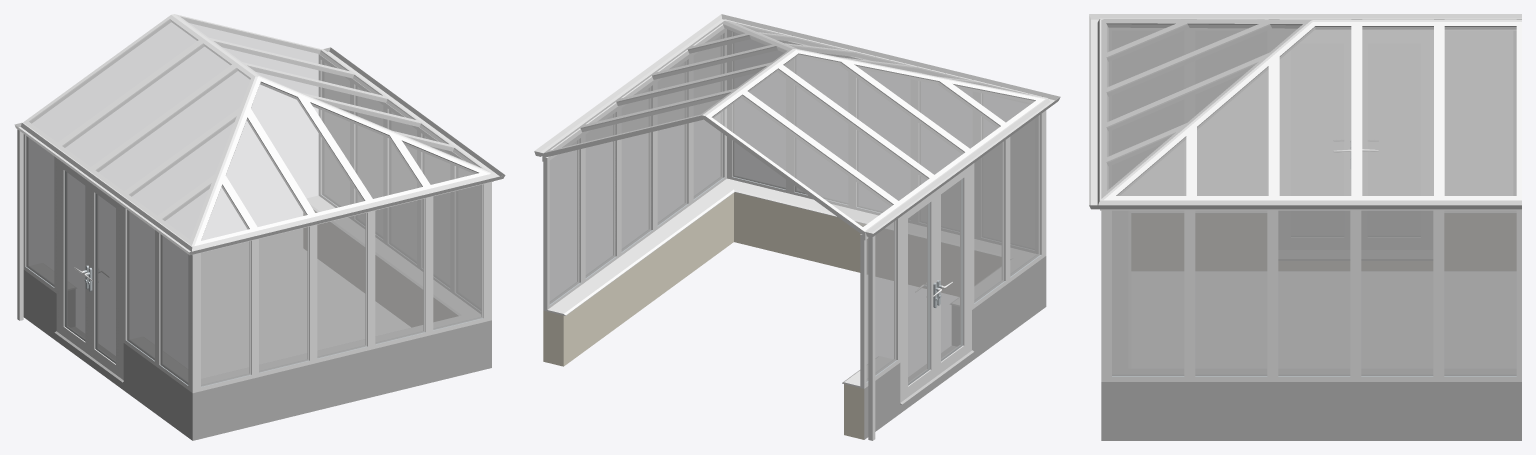
The model's file is result.gltf.
The picture shows the model from 3 angles, left to right: view 1: azimuth 30°, elevation 25°; view 2: azimuth 150°, elevation 25°; view 3: azimuth 270°, elevation 25°; orthographic projection. The views are drawn at different scales.
Visible parts, largest first — view 1: ID1053, ID4, ID813, ID971, ID892, ID655, ID734, ID1051, ID179, ID6, ID100, ID259 (+4 smaller); view 2: ID1053, ID4, ID971, ID813, ID892, ID655, ID417, ID1051, ID6, ID338, ID734, ID179 (+4 smaller); view 3: ID1053, ID4, ID259, ID496, ID575, ID338, ID417, ID100, ID179, ID6, ID1051.
Boxes of the visible parts, x1,y1,x2,y2 form: ID1053: (22, 14, 493, 254); ID4: (17, 129, 491, 440); ID813: (197, 240, 255, 391); ID971: (371, 197, 429, 349); ID892: (313, 211, 371, 363); ID655: (429, 183, 487, 335); ID734: (255, 226, 313, 377); ID1051: (14, 47, 505, 255); ID179: (123, 207, 160, 366); ID6: (157, 231, 190, 391); ID100: (23, 134, 56, 293); ID259: (452, 152, 480, 313); ID1053: (542, 19, 1047, 240); ID4: (543, 29, 1046, 440); ID971: (790, 41, 852, 208); ID813: (977, 92, 1037, 253); ID892: (852, 57, 914, 223); ID655: (728, 30, 789, 193); ID417: (543, 132, 583, 311); ID1051: (534, 14, 1060, 237); ID6: (1004, 112, 1043, 283); ID338: (579, 106, 619, 283); ID734: (914, 72, 976, 238); ID179: (972, 138, 1007, 309); ID1053: (1100, 18, 1521, 210); ID4: (1101, 28, 1521, 440); ID259: (1106, 210, 1189, 381); ID496: (1272, 210, 1355, 381); ID575: (1189, 210, 1272, 381); ID338: (1356, 210, 1438, 381); ID417: (1439, 210, 1521, 381); ID100: (1445, 29, 1516, 195); ID179: (1189, 28, 1272, 195); ID6: (1108, 27, 1189, 195); ID1051: (1089, 14, 1521, 209).
Bounding box in the file's own units: 4.23 × 3.4 × 4.05.
